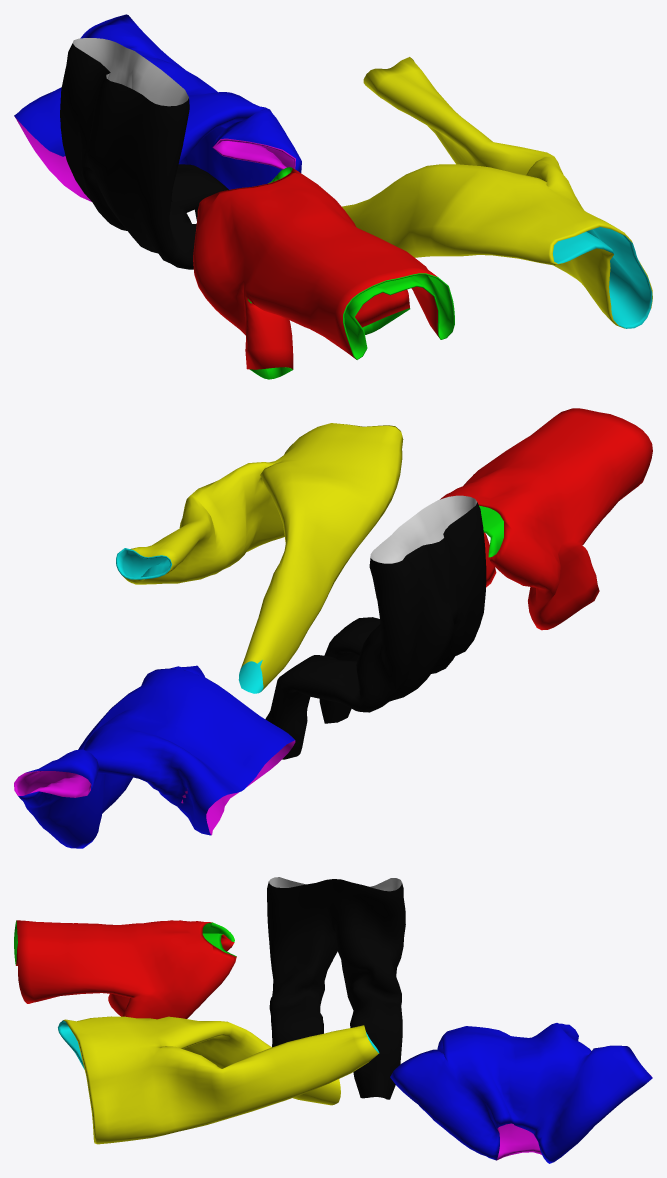
The model's file is Clothes.fbx.
3 renders of one model, top to bottom at view 1: azimuth 30°, elevation 25°; view 2: azimuth 150°, elevation 25°; view 3: azimuth 270°, elevation 25°, orthographic. The views are drawn at different scales.
Parts seen in each view (by area): view 1: Tshirt_2, Jeans_1, Jeans_2, Tshit_1; view 2: Jeans_1, Tshit_1, Jeans_2, Tshirt_2; view 3: Jeans_1, Tshit_1, Jeans_2, Tshirt_2.
Part boxes in pixels (x1,y1,x2,y2): Tshirt_2: (193, 167, 454, 379); Jeans_1: (342, 57, 652, 328); Jeans_2: (60, 38, 228, 269); Tshit_1: (14, 14, 301, 201); Jeans_1: (116, 423, 403, 693); Tshit_1: (14, 665, 295, 848); Jeans_2: (265, 495, 486, 759); Tshirt_2: (440, 408, 652, 630); Jeans_1: (58, 1016, 379, 1144); Tshit_1: (390, 1023, 652, 1163); Jeans_2: (267, 877, 405, 1099); Tshirt_2: (14, 920, 236, 1019).
Bounding box in the file's own units: 110 × 81.02 × 223.
